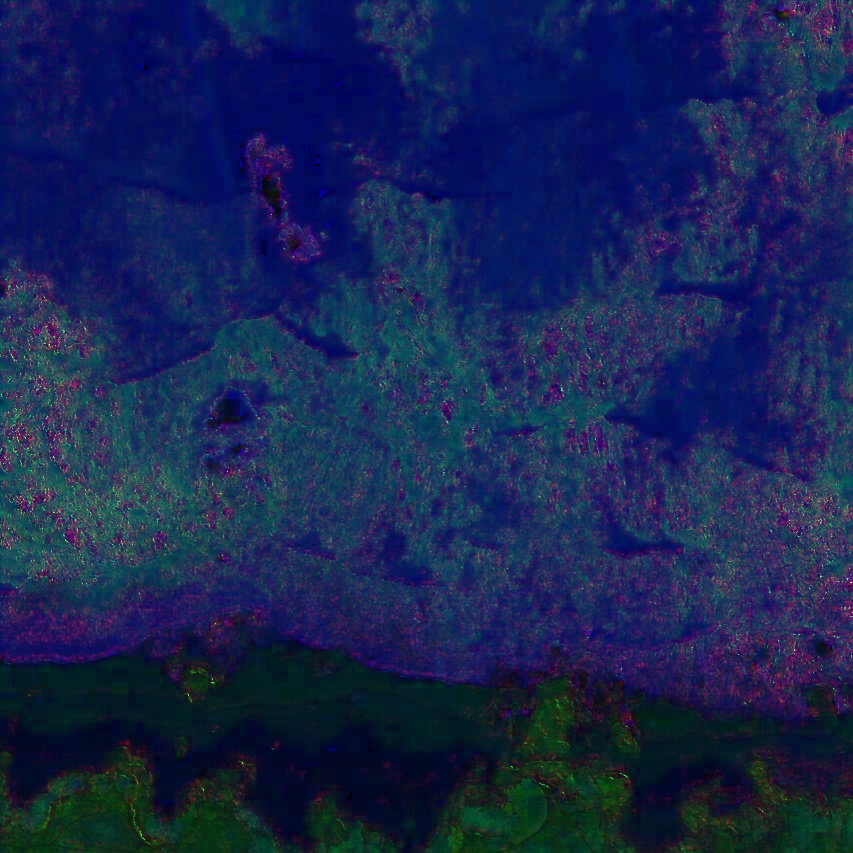rip_current: (308, 131, 535, 625)
